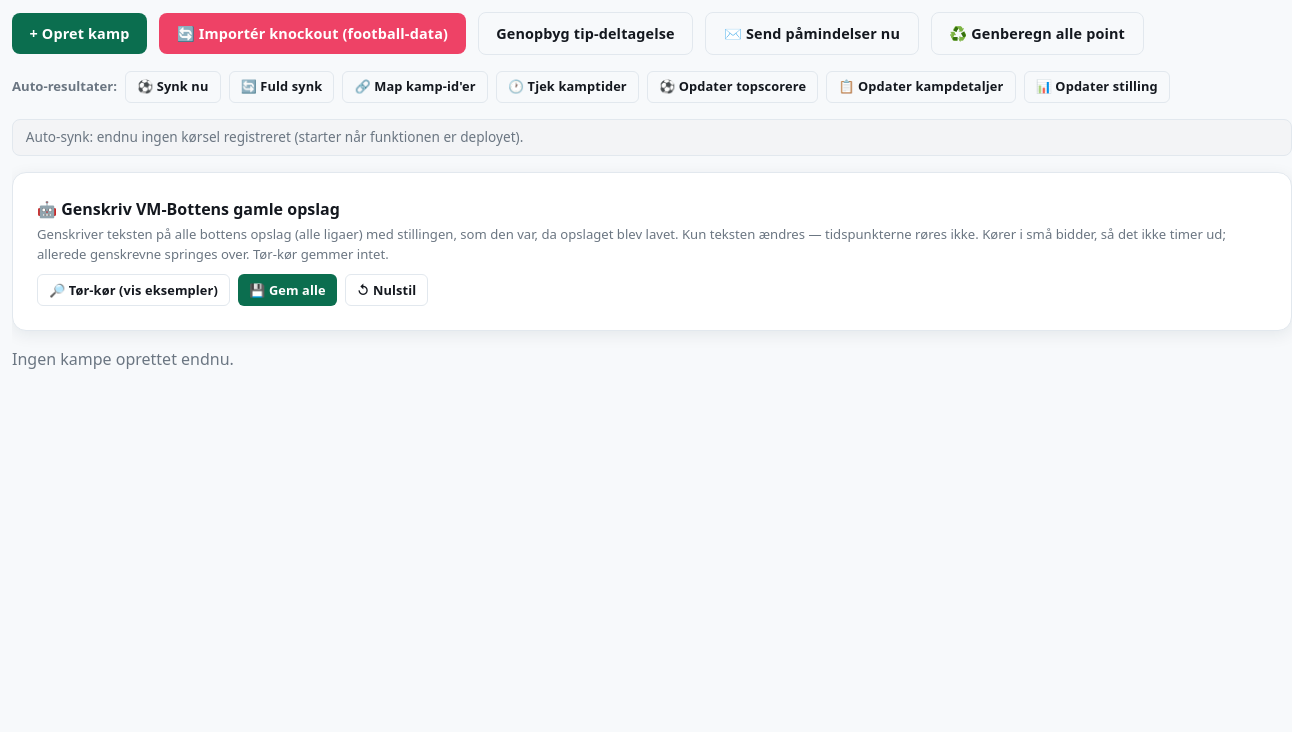
Test: MatchesTab › anvender importen (dryRun=false) ved klik på Anvend
Click the button "🔄 Importér knockout (football-data)" at (312, 33), box 159,13 -> 466,54
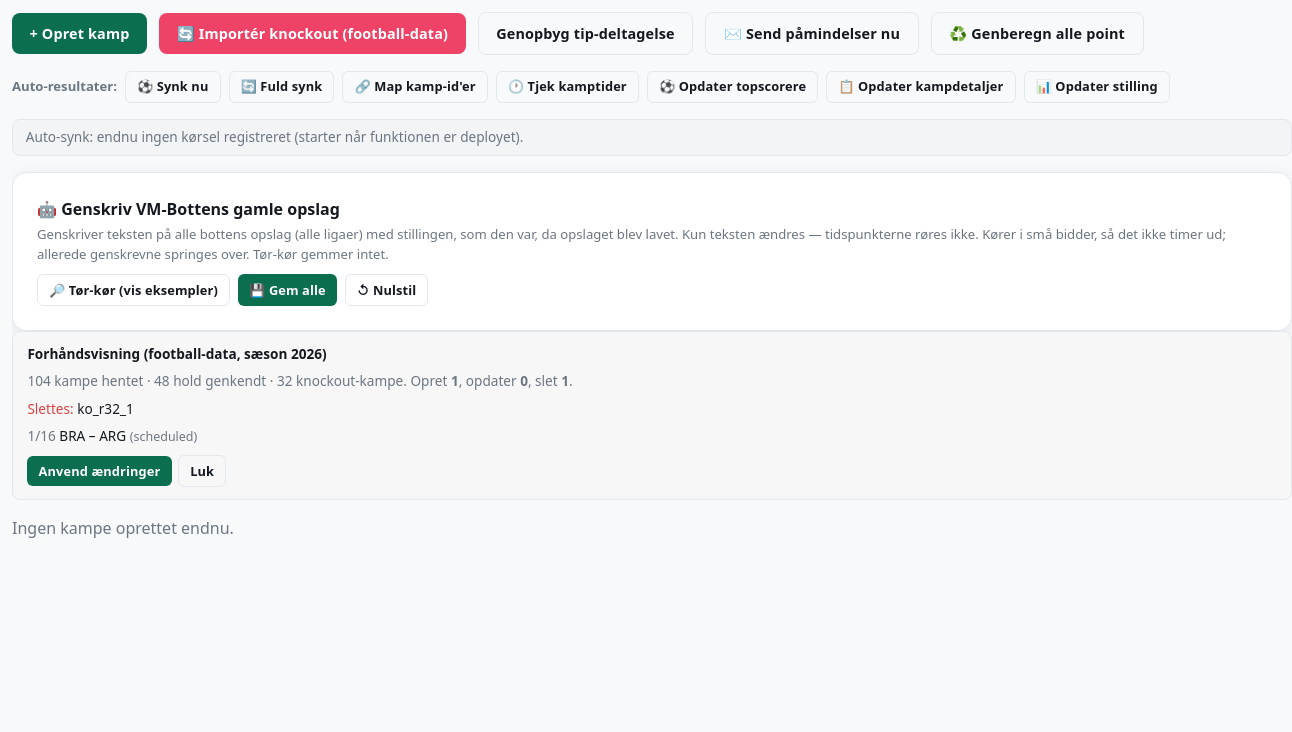
Click the button "Anvend ændringer" at (100, 471), box 27,456 -> 172,486
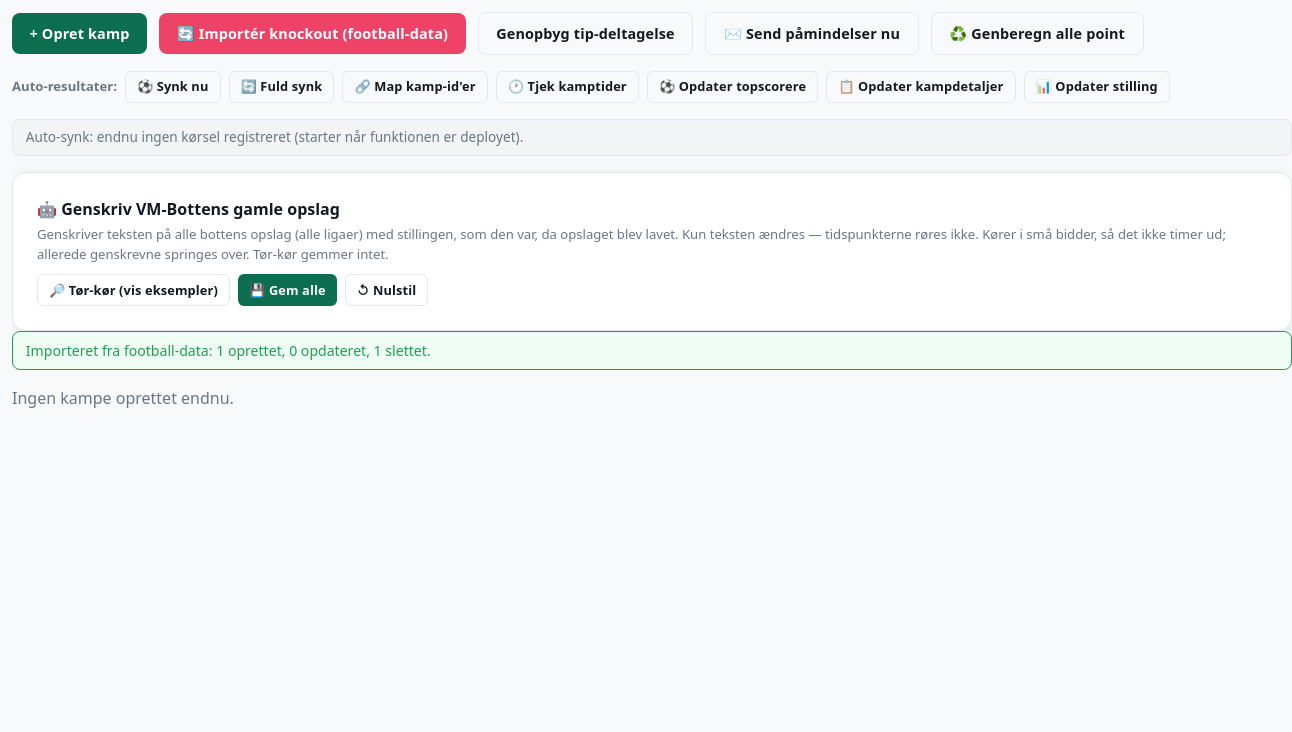
Expected: the message "Importeret fra football-data: 1 oprettet, 0 opdateret, 1 slettet." is shown, 12,331 -> 1291,370
